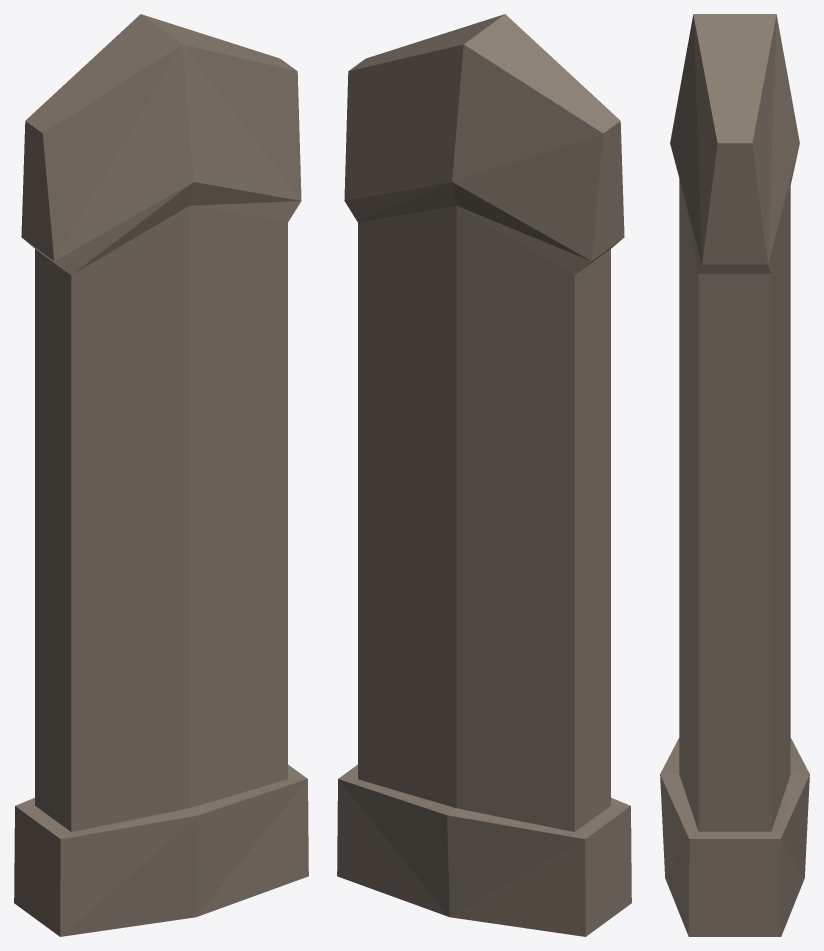
Rendered from SM_Wep_Dagger_01_Sheath.glb.
3 renders of one model, left to right at view 1: azimuth 30°, elevation 25°; view 2: azimuth 150°, elevation 25°; view 3: azimuth 270°, elevation 25°, orthographic.
Visible parts, largest first — view 1: SM_Wep_Dagger_01_Sheath_00; view 2: SM_Wep_Dagger_01_Sheath_00; view 3: SM_Wep_Dagger_01_Sheath_00.
Part boxes in pixels (<box>): SM_Wep_Dagger_01_Sheath_00: <box>14,14,308,936</box>; SM_Wep_Dagger_01_Sheath_00: <box>337,14,631,936</box>; SM_Wep_Dagger_01_Sheath_00: <box>660,14,809,936</box>.
Size of the model in its own units: 0.1054 by 0.3405 by 0.0535.
1 material, 1 textured.
